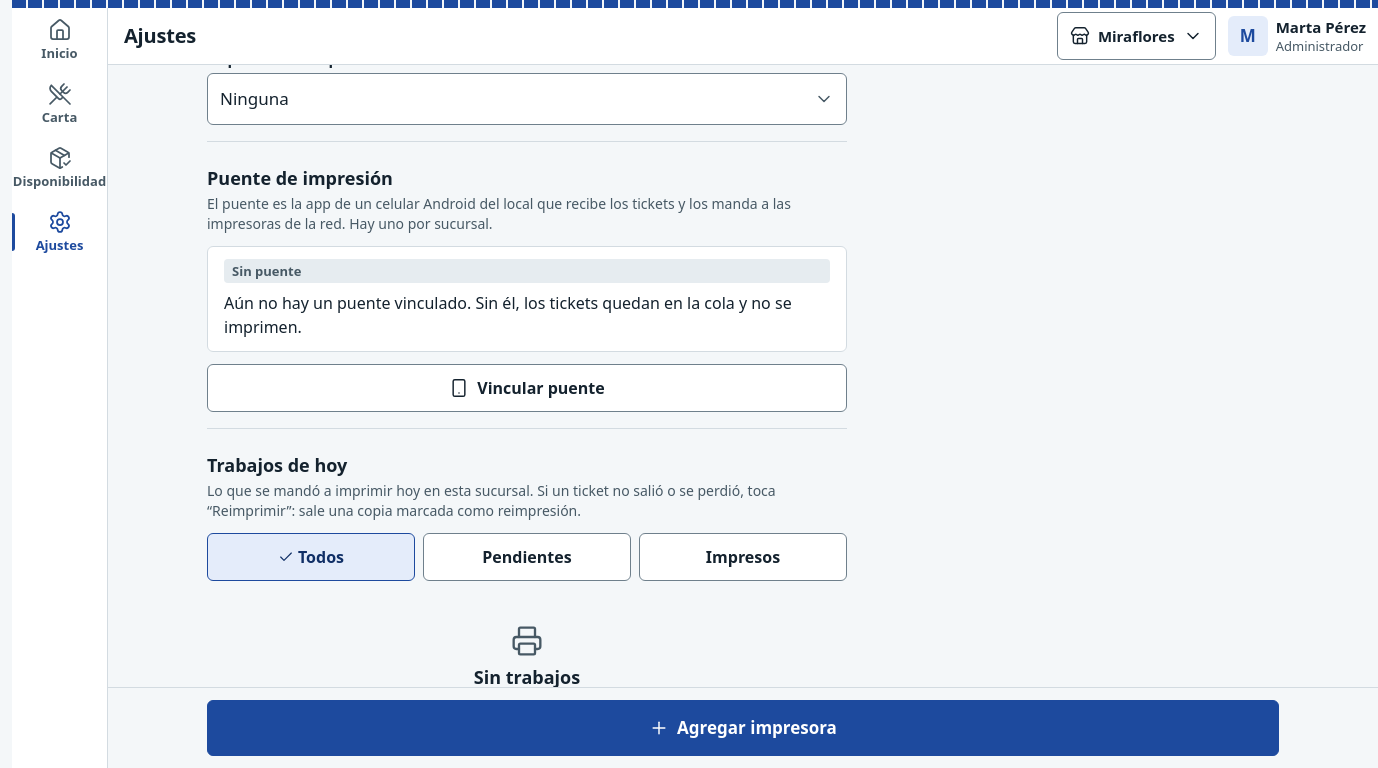
Test: Vincular puente: QR, texto y cuenta regresiva (criterios 106 y 137) › pide el código con una clave de idempotencia y muestra el QR, el texto para copiar y los 10 minutos
This screenshot has width=1378, height=768.
(page scrolled)
Click the button "Vincular puente": (527, 388) [207,364,847,412]
(page scrolled)
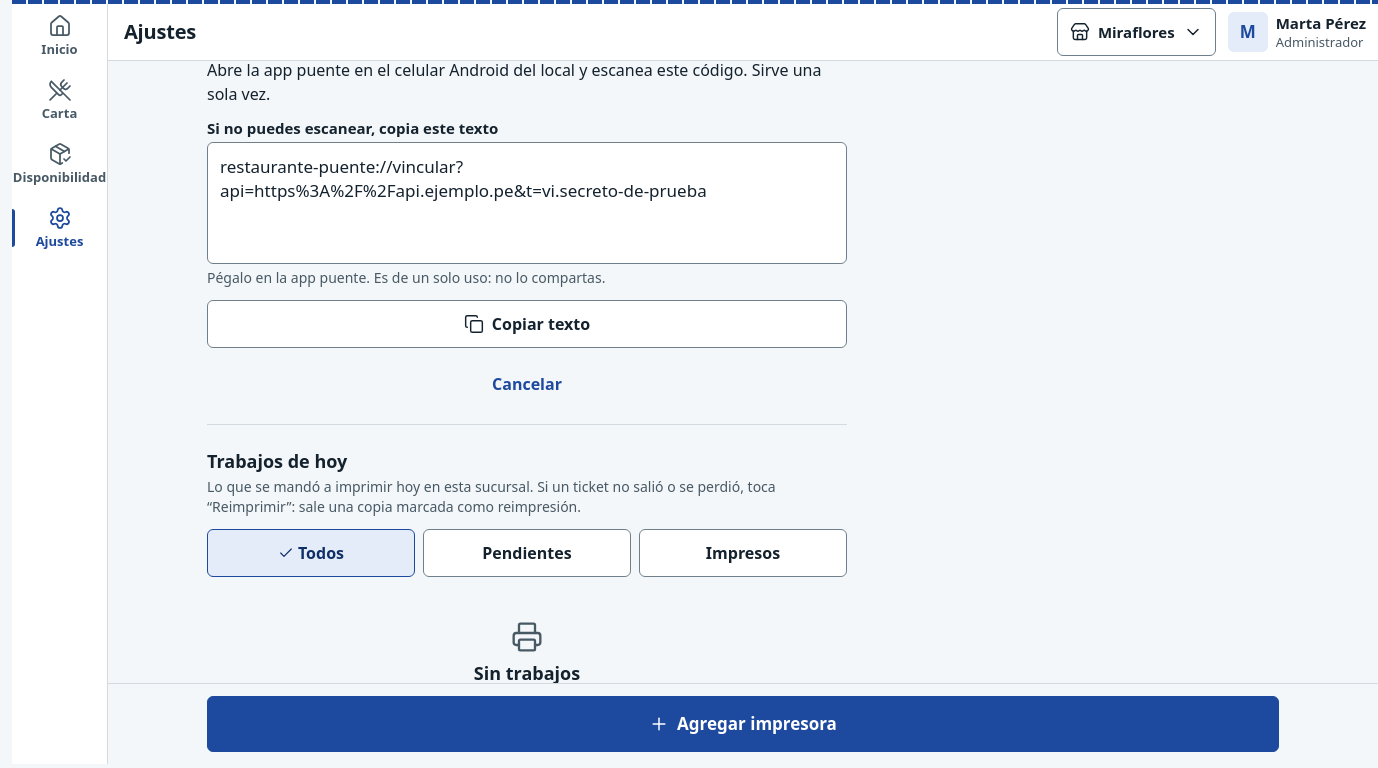
Check: the button "Vincular puente" is gone
Check: the button "Cancelar" is shown, box [207,360,847,408]
